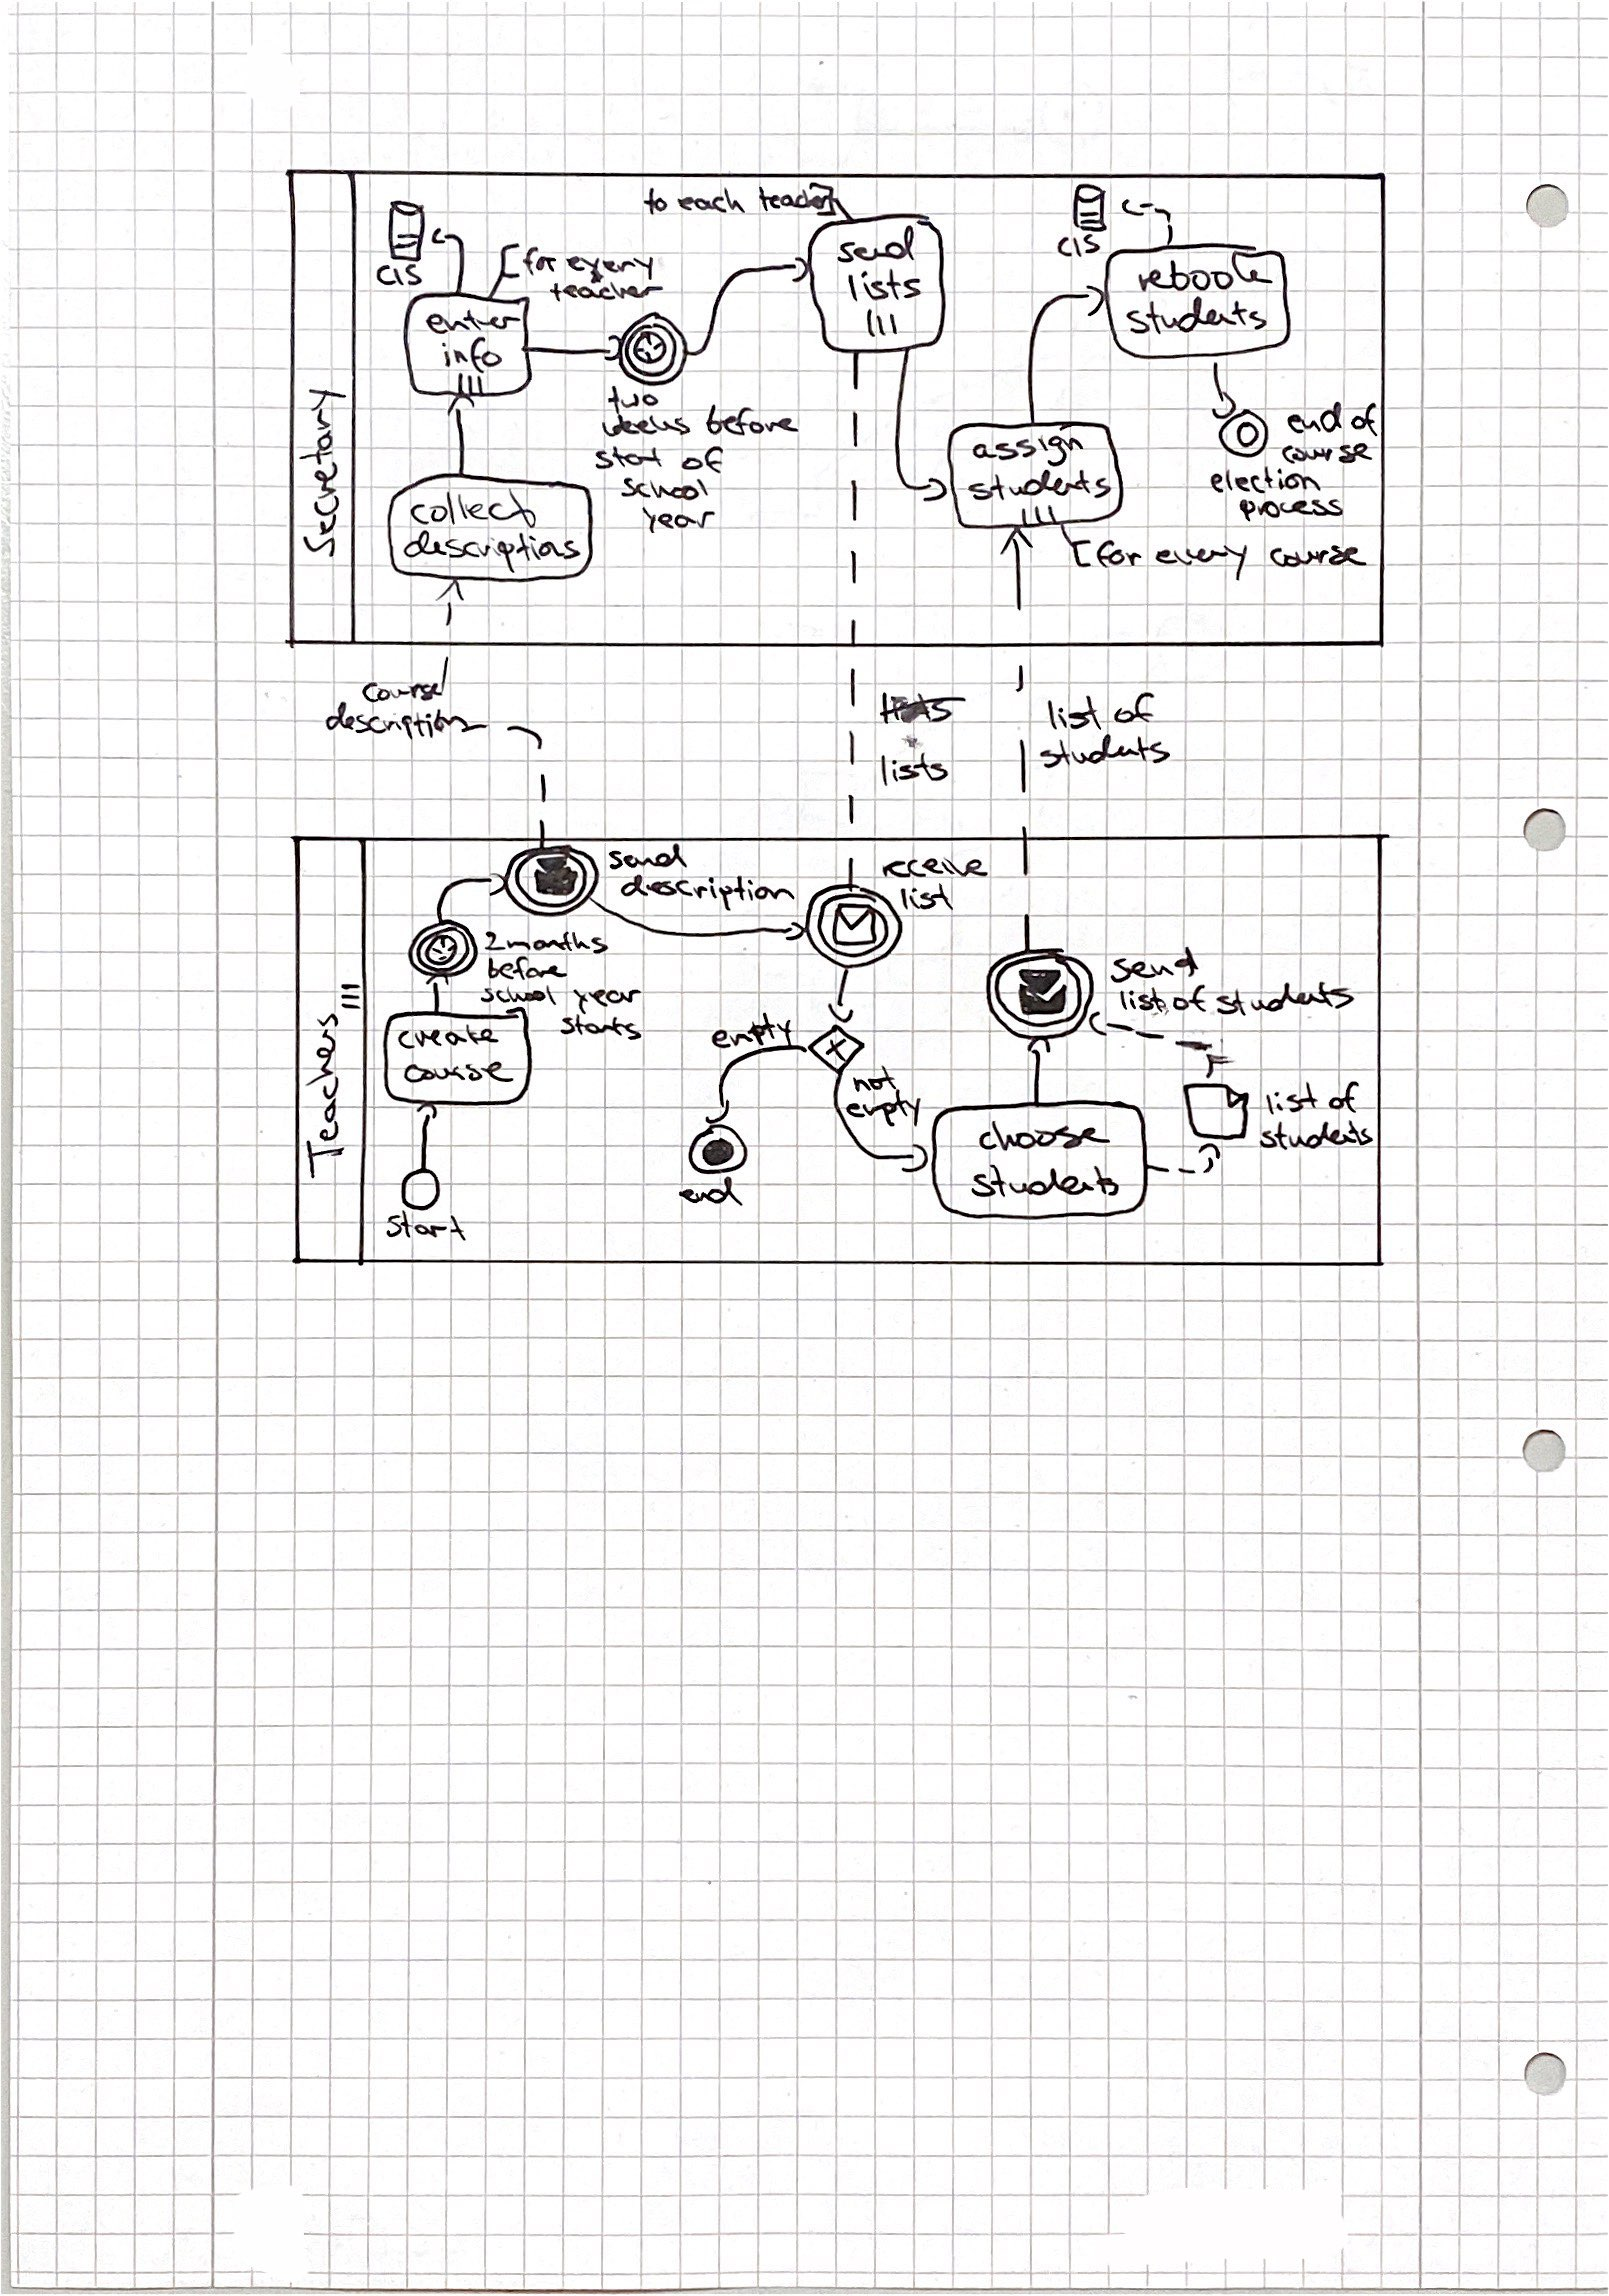2: (484, 926, 508, 954)
CIS: (372, 262, 427, 289), (1053, 233, 1103, 262)
Course: (358, 680, 445, 707)
III: (864, 307, 900, 339), (1016, 505, 1059, 526), (453, 370, 489, 396), (339, 979, 363, 1014)
School: (618, 478, 713, 503)
Secretary: (301, 386, 347, 559)
Start: (382, 1209, 471, 1241)
Teachers: (305, 1011, 347, 1182)
[forevery: (497, 244, 561, 281)
assign: (969, 441, 1088, 477)
before: (702, 403, 802, 440), (484, 956, 571, 983)
choose: (975, 1123, 1111, 1154)
collect: (406, 487, 542, 528)
course: (404, 1061, 516, 1087), (1266, 542, 1370, 570), (1279, 441, 1372, 470)
create: (393, 1028, 500, 1054)
description: (321, 699, 488, 741), (617, 873, 796, 911)
descriptions: (401, 528, 583, 572)
each: (675, 183, 746, 214)
election: (1206, 466, 1325, 498)
empty: (708, 1014, 794, 1053), (844, 1092, 925, 1128)
end: (1285, 400, 1349, 436), (675, 1176, 742, 1209)
enter: (423, 310, 521, 338)
every: (1154, 540, 1251, 581)
for: (1095, 539, 1145, 571)
info: (439, 336, 505, 375)
list: (1043, 693, 1106, 733), (897, 883, 956, 916), (1261, 1087, 1322, 1118), (1116, 987, 1170, 1016)
lists: (845, 269, 924, 305), (875, 754, 949, 790)
months: (502, 931, 610, 955)
not: (849, 1065, 903, 1094)
of: (1111, 690, 1156, 727), (679, 444, 728, 476), (1326, 1079, 1364, 1116), (1168, 982, 1211, 1015), (1347, 403, 1383, 439)
process: (1236, 497, 1347, 526)
rebook: (1132, 257, 1271, 295)
receive: (878, 853, 990, 881)
school: (477, 982, 562, 1006)
send: (834, 227, 918, 265), (1109, 954, 1200, 986), (606, 842, 691, 874)
start: (590, 449, 666, 474)
starts: (557, 1013, 646, 1040)
students: (1122, 295, 1270, 337), (1035, 733, 1169, 774), (969, 1162, 1121, 1198), (964, 471, 1115, 504), (1212, 987, 1354, 1021), (1256, 1119, 1375, 1152)
teacher: (547, 280, 664, 304), (753, 185, 833, 212)
to: (641, 187, 671, 220)
two: (605, 386, 663, 414)
weeks: (599, 411, 695, 439)
year: (638, 506, 718, 533), (573, 986, 642, 1013)
